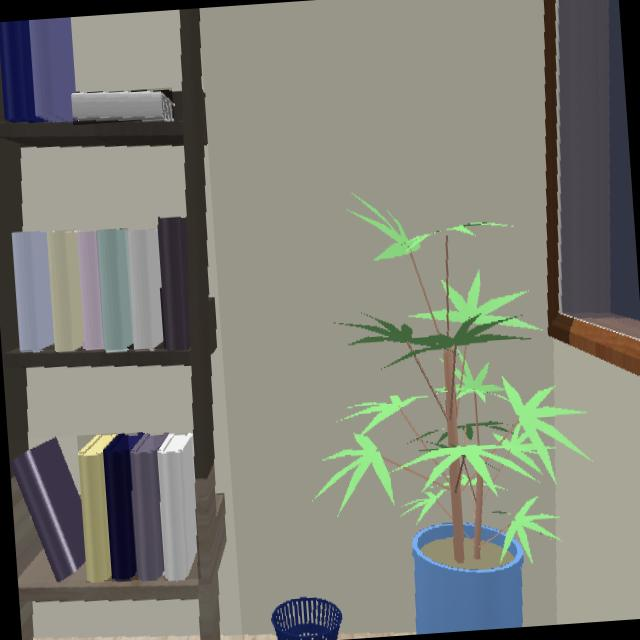book: (10, 437, 85, 581), (77, 435, 118, 582), (158, 433, 198, 579), (105, 432, 142, 580), (131, 432, 166, 579), (12, 231, 54, 350), (98, 230, 134, 349), (129, 231, 164, 350), (49, 231, 83, 351), (71, 92, 174, 121), (79, 232, 104, 348)
shelf: (0, 8, 225, 640)
